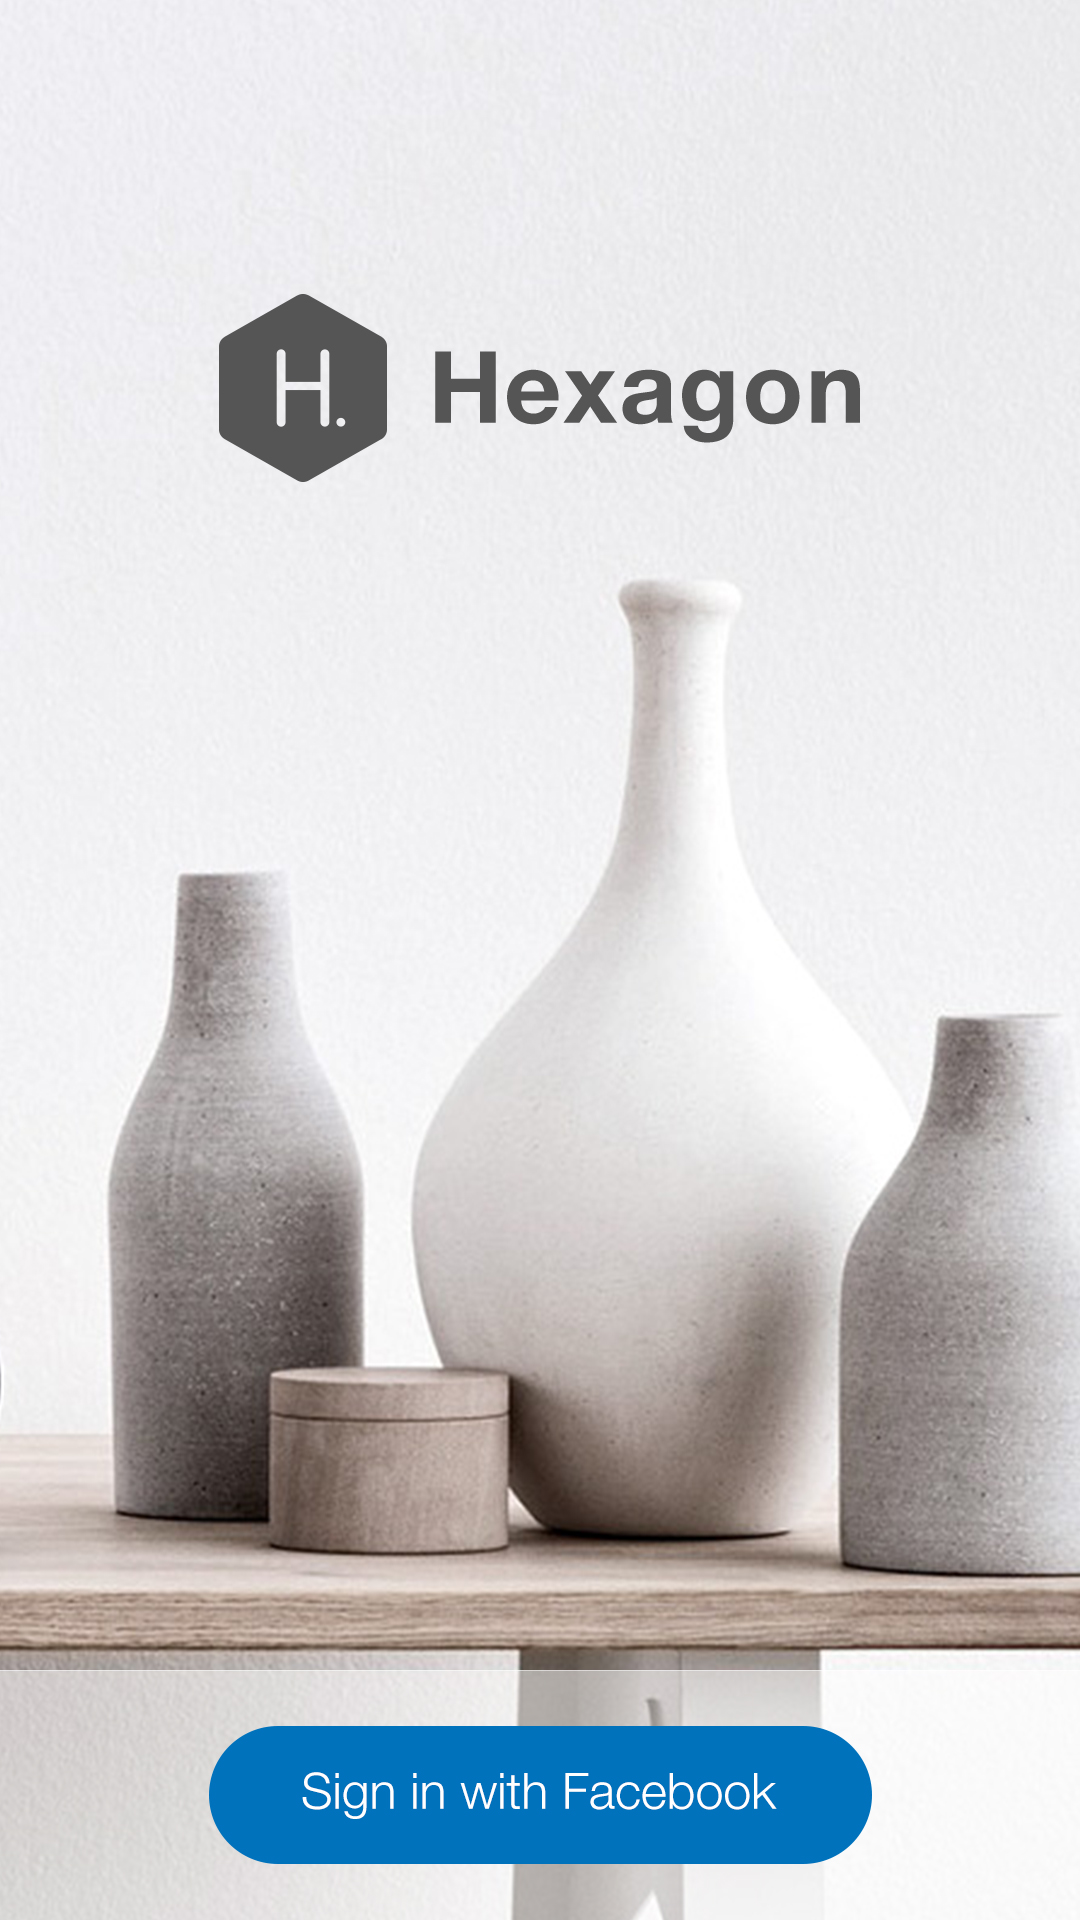BackgroundImage: (3, 1, 1080, 1920)
Image: (218, 291, 390, 484)
Text: (434, 349, 862, 444)
TextButton: (208, 1725, 873, 1866)
